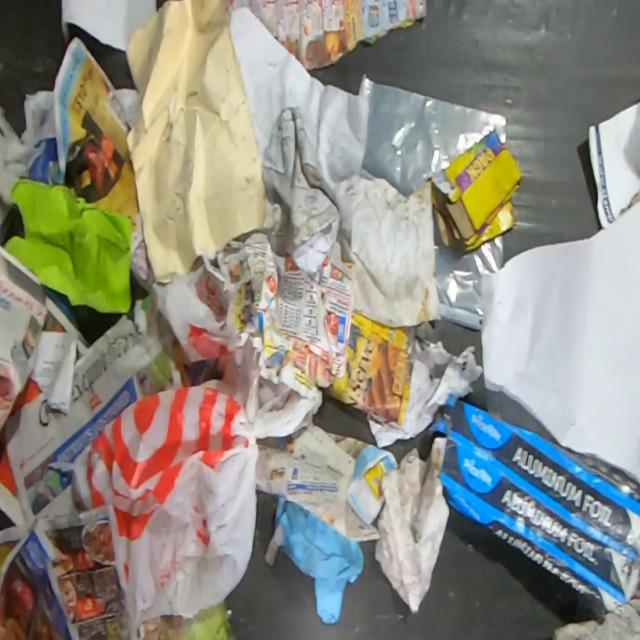cardboard: (426, 393, 640, 624), (431, 131, 523, 254), (326, 310, 414, 427)
soft_plastic: (73, 322, 324, 640), (358, 74, 507, 198), (433, 214, 504, 332)
